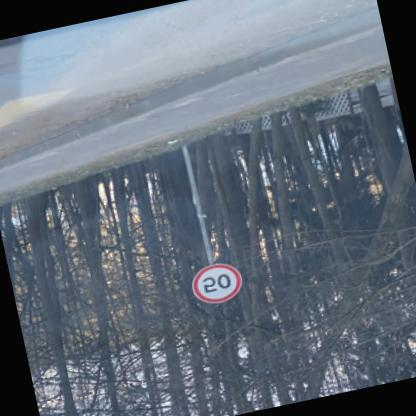speedlimit: (186, 260, 243, 308)
